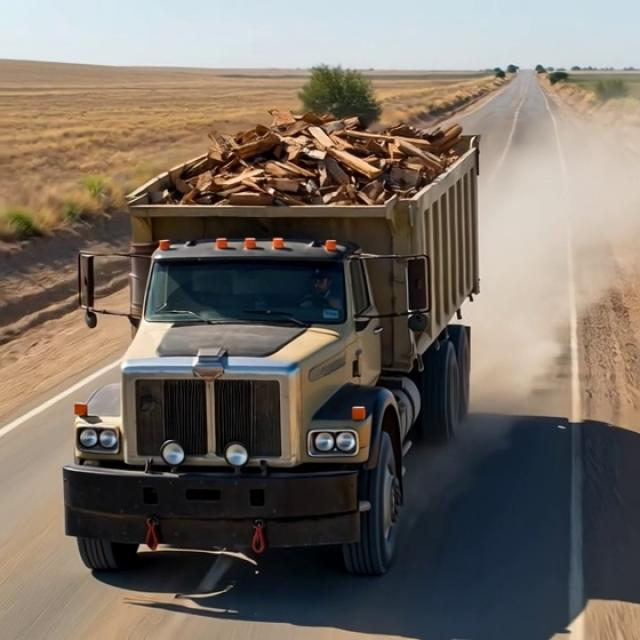Box: (109, 106, 487, 220)
Truck: (33, 102, 492, 562)
